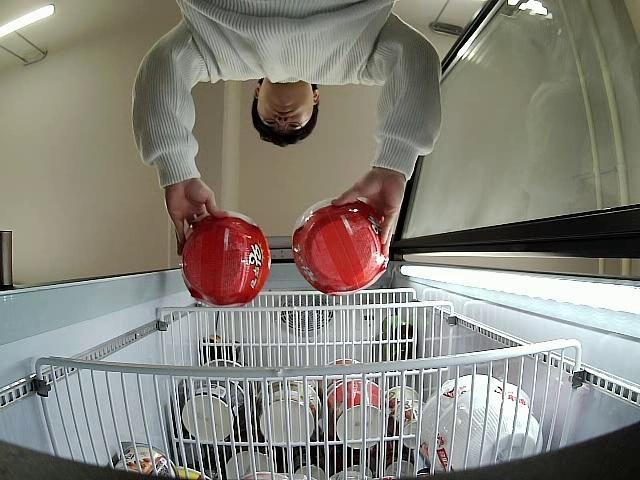10_wangTtukkeong: (292, 198, 389, 290), (180, 212, 271, 305)
